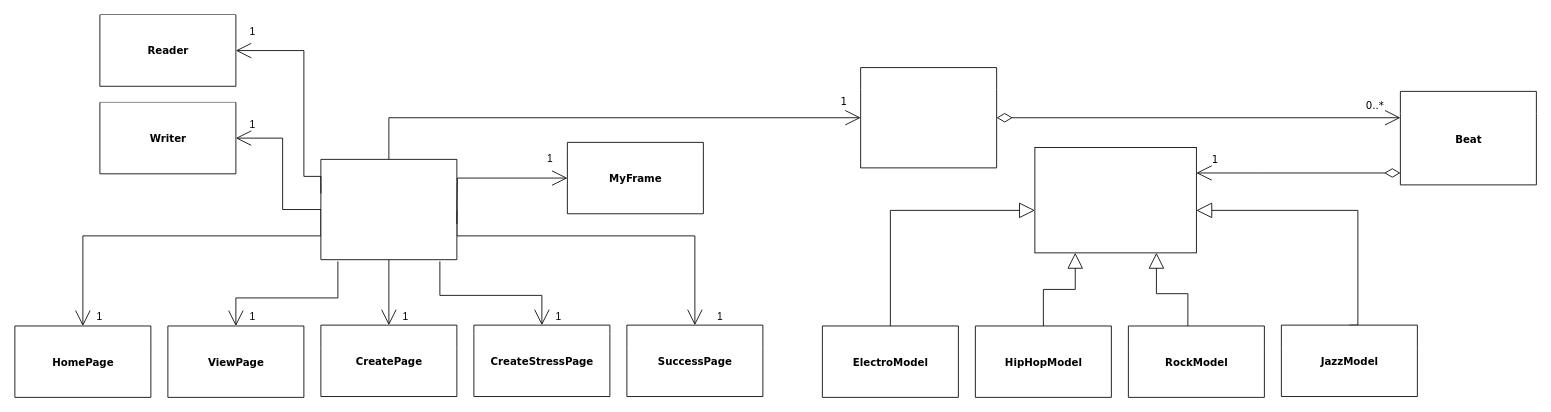
Image size: 1551x412. Some labels were removed from this diagram. Here are the shapes that lost their labels. From the top down, the centre of each, then its label:
pixel 928 117: BeatCollection
pixel 388 209: GUI
pixel 1115 200: <<Abstract>> BeatModel
